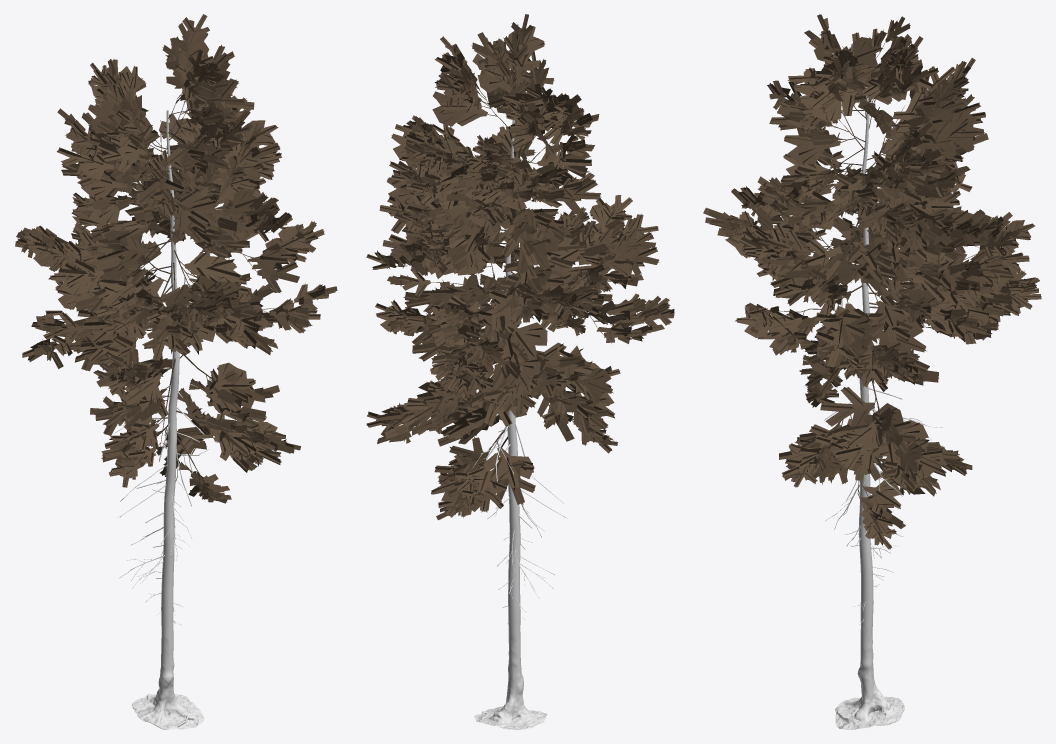
Rendered from fir_b.glb.
3 renders of one model, left to right at view 1: azimuth 30°, elevation 25°; view 2: azimuth 150°, elevation 25°; view 3: azimuth 270°, elevation 25°, orthographic. The views are drawn at different scales.
Visible parts, largest first — view 1: fir_tree_01_b_LOD2; view 2: fir_tree_01_b_LOD2; view 3: fir_tree_01_b_LOD2.
Boxes of the visible parts, x1,y1,x2,y2 form: fir_tree_01_b_LOD2: [15, 14, 337, 729]; fir_tree_01_b_LOD2: [366, 14, 674, 729]; fir_tree_01_b_LOD2: [703, 14, 1041, 729].
Size of the model in its own units: 5.63 by 14.08 by 6.08.
